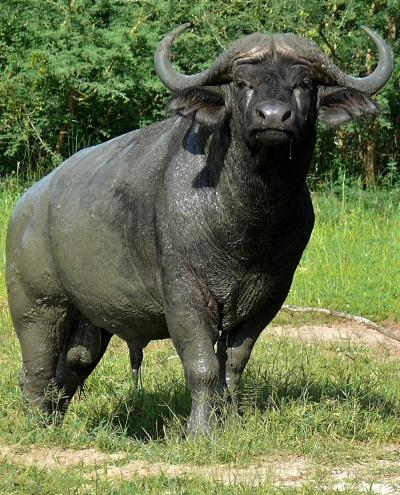buffalo: (6, 24, 391, 433)
